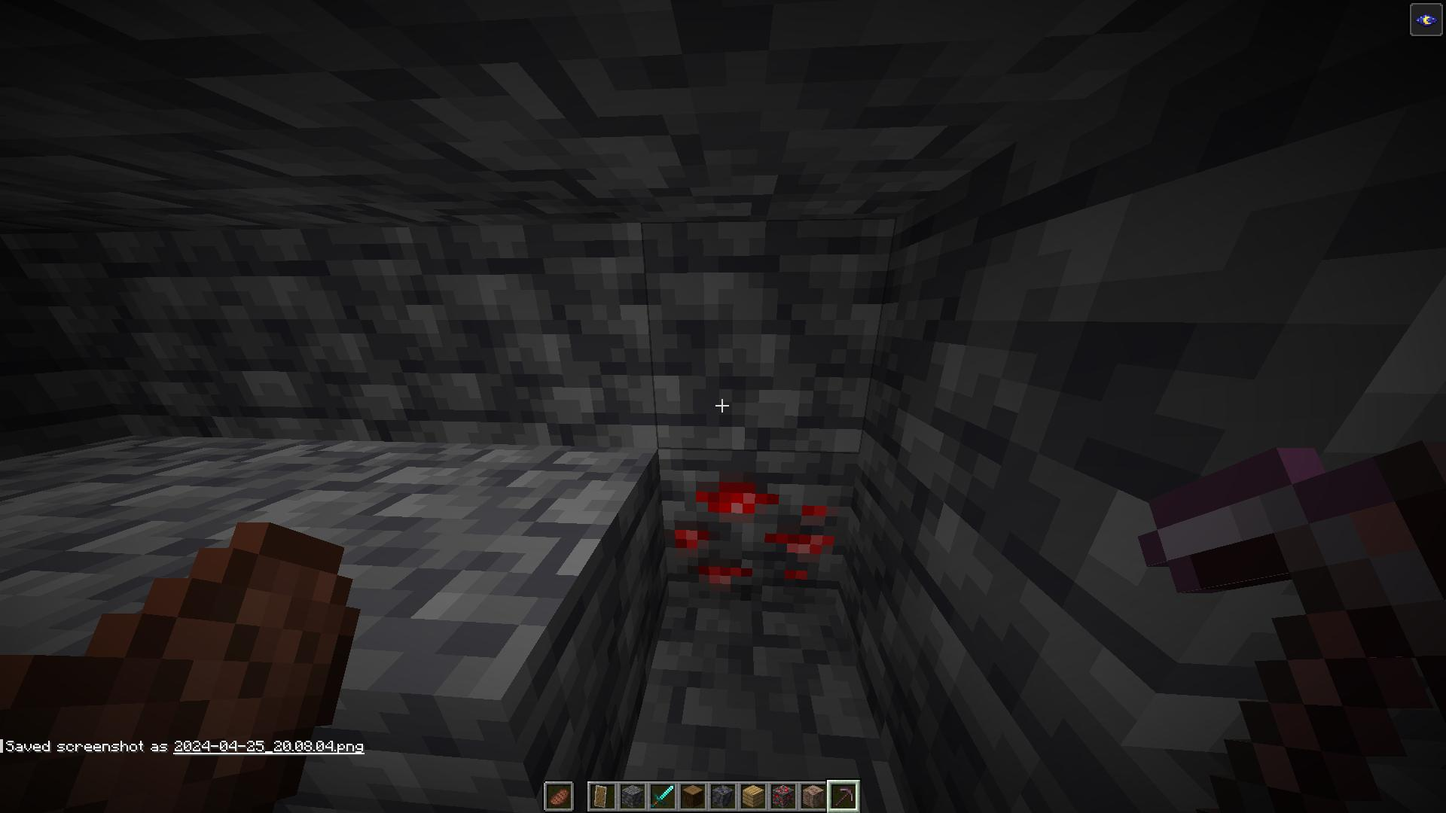redstone ore: (660, 448, 850, 600)
